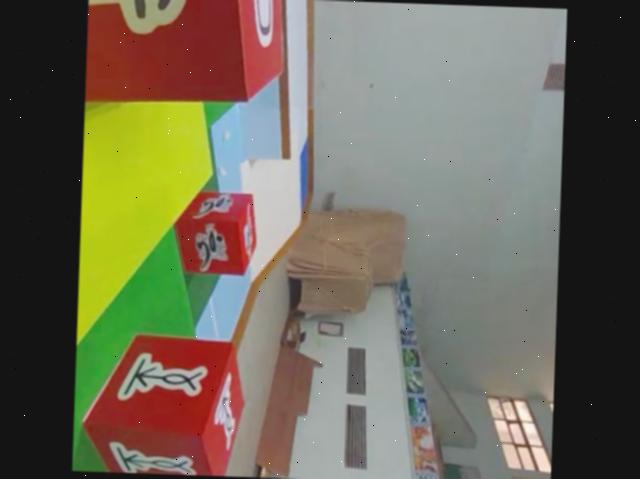R1: (171, 186, 261, 277)
R2 Fake: (84, 0, 290, 111)
R2 Real: (80, 328, 252, 477)
